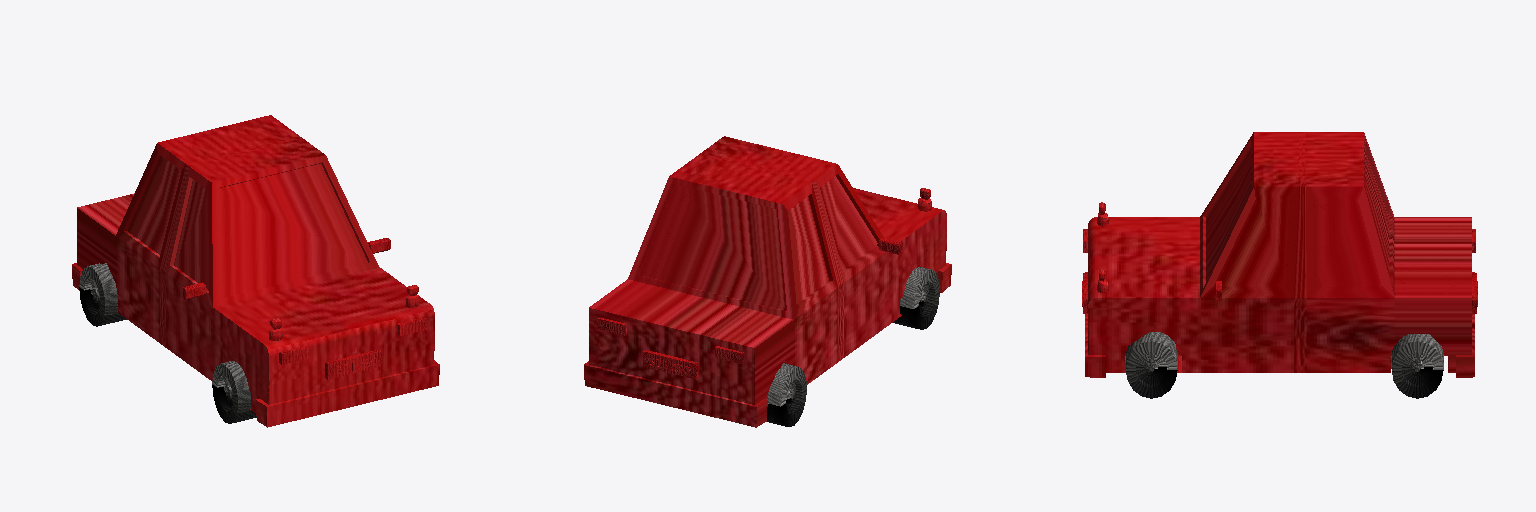
3 views of the same model, side by side, from view 1: azimuth 30°, elevation 25°; view 2: azimuth 150°, elevation 25°; view 3: azimuth 270°, elevation 25° (orthographic).
Visible parts, largest first — view 1: Text, Cylinder_004_Cylinder_006, Cylinder_001_Cylinder_003; view 2: Text, Cylinder_001_Cylinder_003, Cylinder_004_Cylinder_006; view 3: Text, Cylinder_001_Cylinder_003, Cylinder_004_Cylinder_006.
Boxes of the visible parts, <box> form: Text: <box>72,115,439,427</box>; Cylinder_004_Cylinder_006: <box>79,263,126,326</box>; Cylinder_001_Cylinder_003: <box>212,361,256,423</box>; Text: <box>584,136,951,427</box>; Cylinder_001_Cylinder_003: <box>893,267,939,329</box>; Cylinder_004_Cylinder_006: <box>767,363,806,426</box>; Text: <box>1082,132,1477,377</box>; Cylinder_001_Cylinder_003: <box>1126,332,1177,398</box>; Cylinder_004_Cylinder_006: <box>1392,334,1443,398</box>.
Size of the model in its own units: 28.02 by 25.23 by 46.94.
Materials: 2 (2 with a texture image).